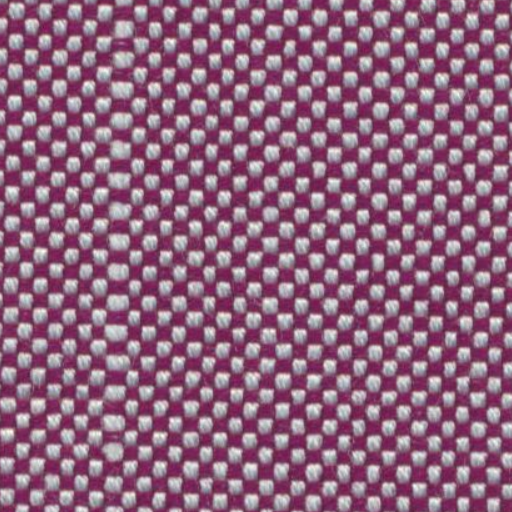TuoSha: (89, 16, 148, 499)
